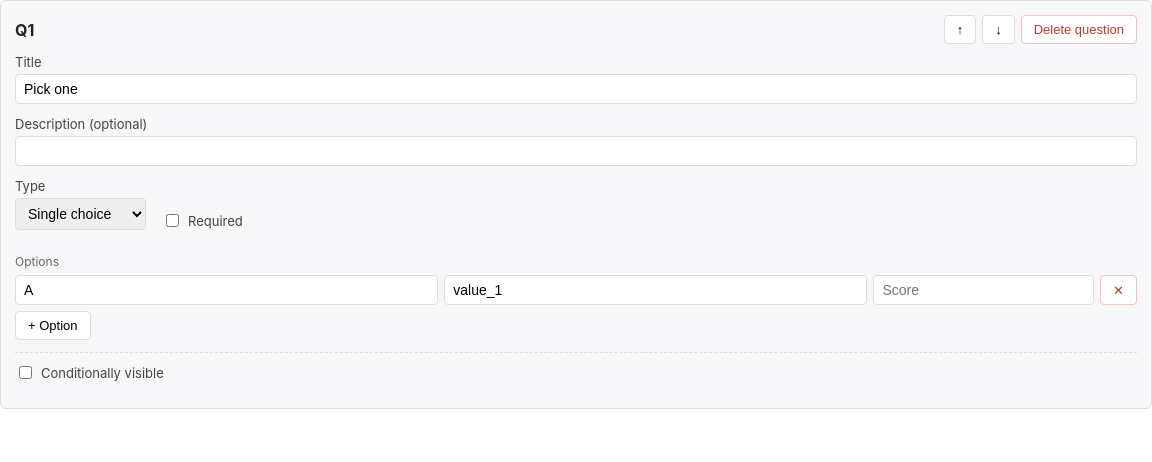
QuestionEditor — options CRUD › "+ Option" adds a new blank option row
Expected: the number of fields with placeholder "Label" is 1, top-left (15, 275), bottom-right (438, 305)
What coordinates should you click on to do the following:
click the button "+ Option"
I would click on:
 (53, 326)
Its box is top-left (15, 311), bottom-right (90, 340).
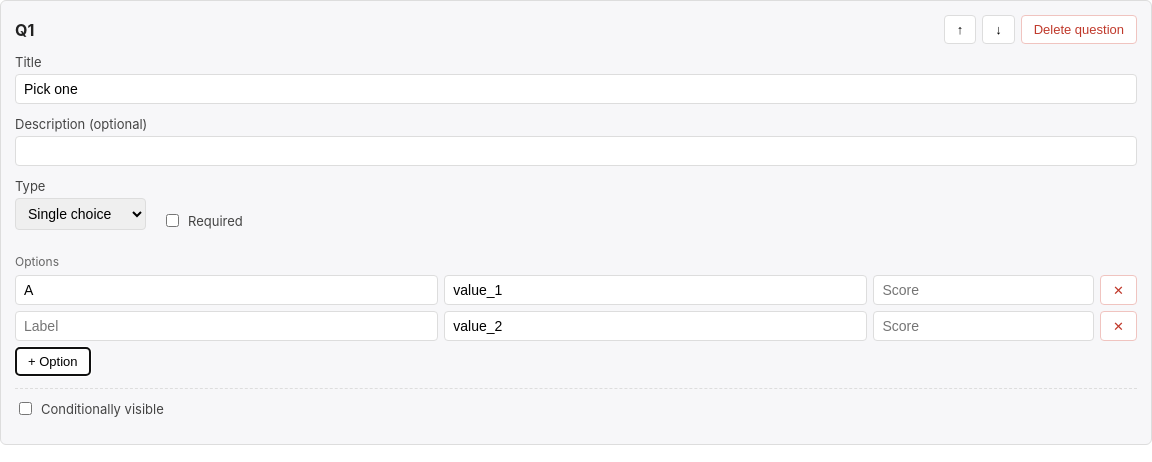
Result: the number of fields with placeholder "Label" is 2 at top-left (15, 275), bottom-right (438, 305); top-left (15, 311), bottom-right (438, 341)
